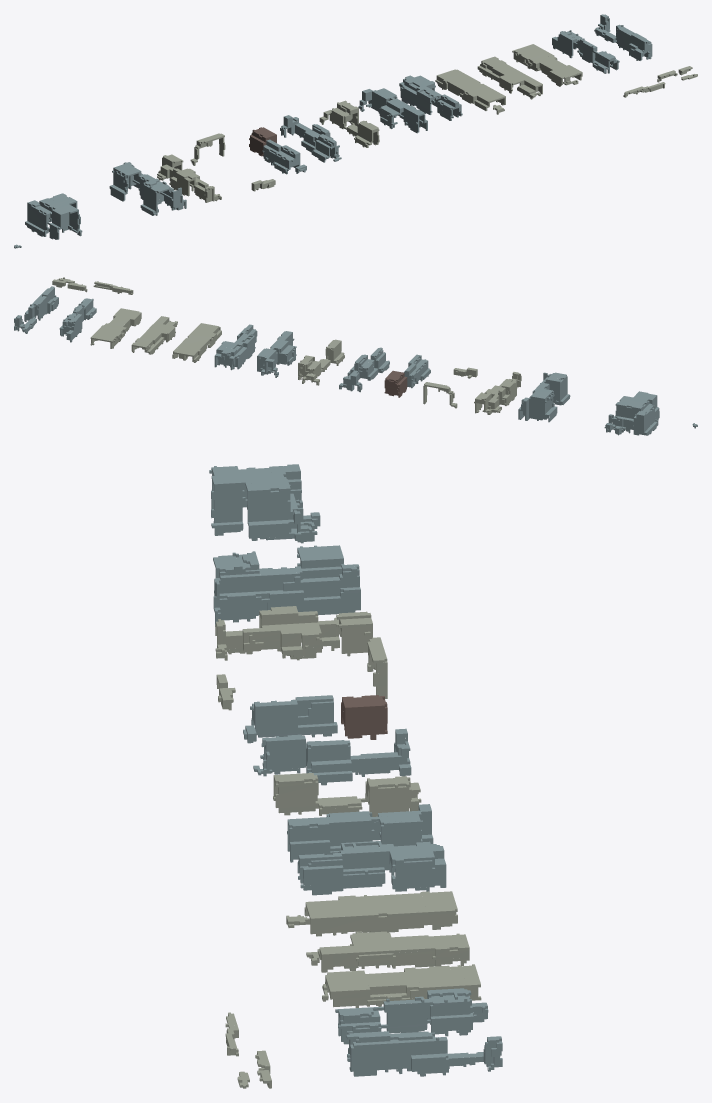
3 views of the same model, one above another, from view 1: azimuth 30°, elevation 25°; view 2: azimuth 150°, elevation 25°; view 3: azimuth 270°, elevation 25° (orthographic). The views are drawn at different scales.
Visible parts, largest first — view 1: measured-industrial; view 2: measured-industrial; view 3: measured-industrial.
Part boxes in pixels (left/top/right/bottom): measured-industrial: left=14, top=14, right=697, bottom=248; measured-industrial: left=14, top=277, right=697, bottom=435; measured-industrial: left=209, top=464, right=502, bottom=1088.
Bounding box in the file's own units: 510 × 19.11 × 103.
